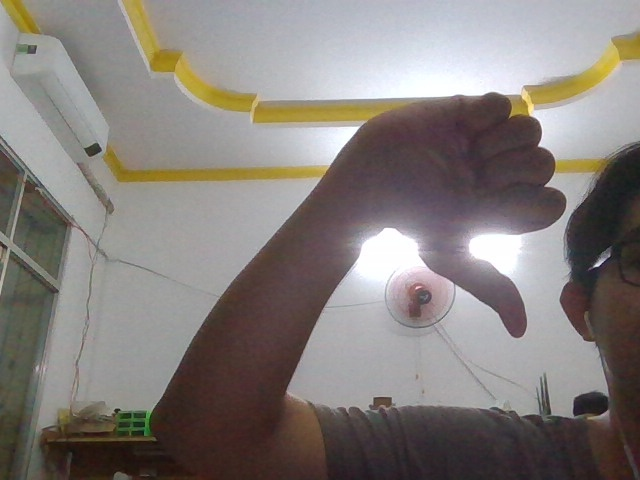thumb_down: (345, 79, 573, 347)
